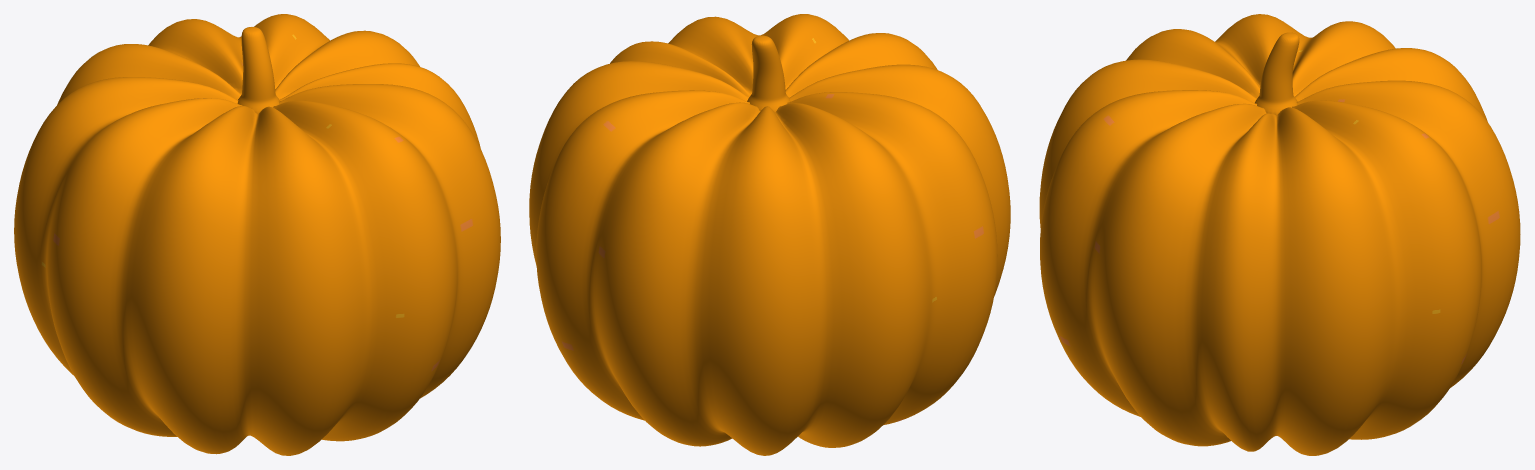
File: pumpkin.glb
3 views of the same model, side by side, from view 1: azimuth 30°, elevation 25°; view 2: azimuth 150°, elevation 25°; view 3: azimuth 270°, elevation 25° (orthographic).
Visible parts, largest first — view 1: Merged Objects; view 2: Merged Objects; view 3: Merged Objects.
Boxes of the visible parts, x1=… form: Merged Objects: x1=14, y1=14, x2=500, y2=455; Merged Objects: x1=529, y1=14, x2=1010, y2=455; Merged Objects: x1=1039, y1=14, x2=1520, y2=455.
Size of the model in its own units: 27.84 by 24.46 by 27.85.
1 material, 1 textured.
